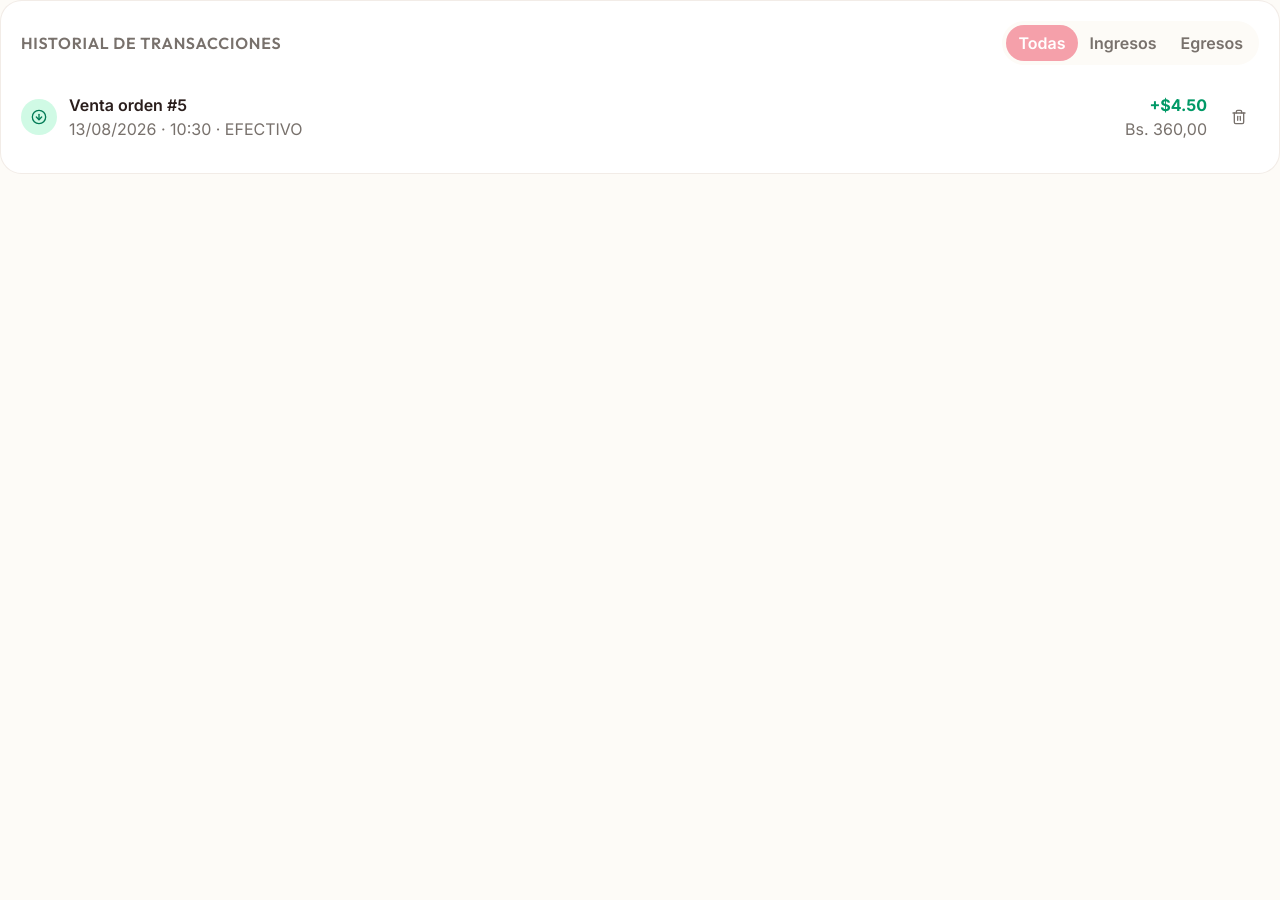
Test: TransactionsTable › advierte que la orden quedará sin registro cuando la operación proviene de una orden
Click the button named "eliminar operación venta orden" at {"x": 1239, "y": 117}, box [1219, 97, 1259, 137]
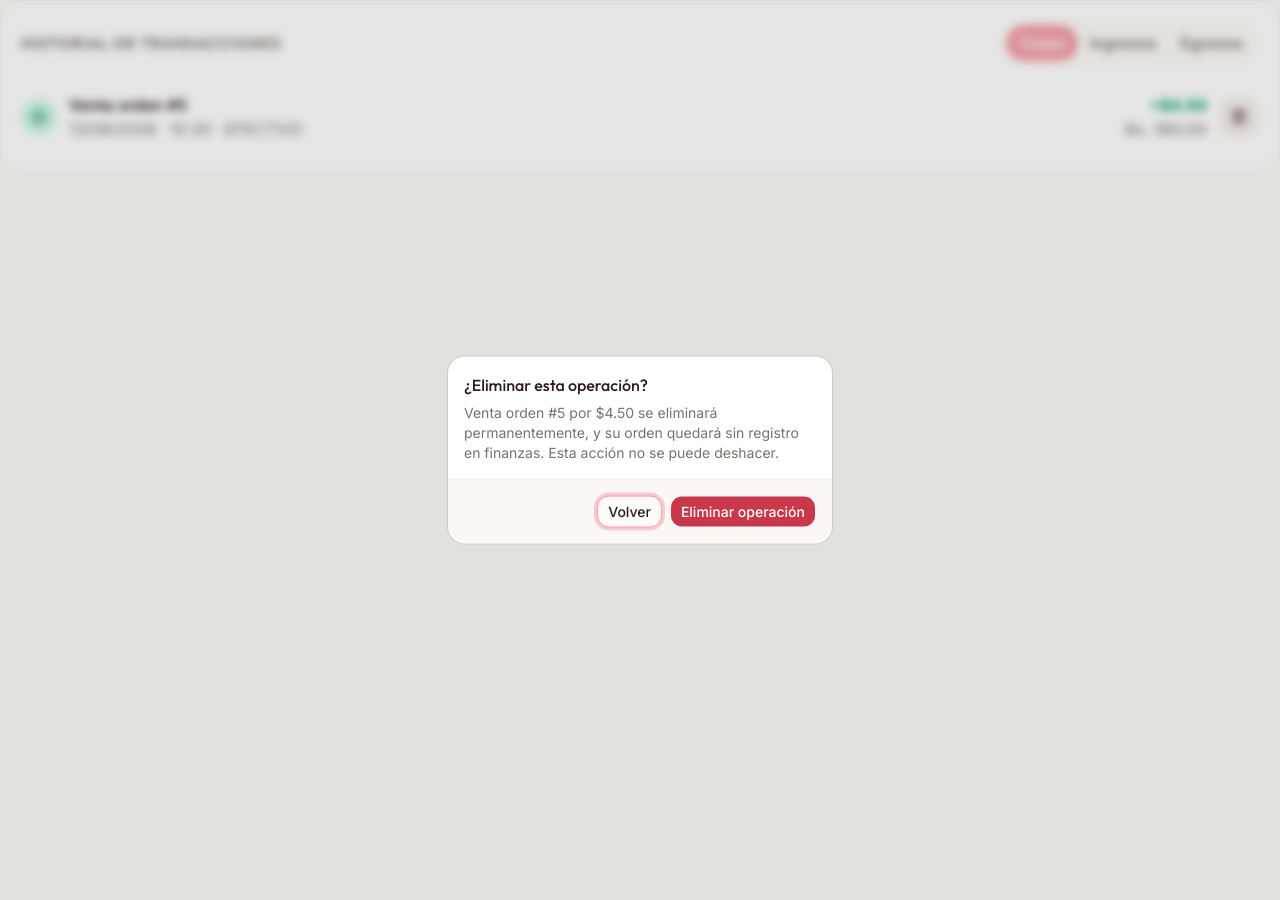
expect the text "su orden quedará sin registro en finanzas" is shown: met, box [464, 424, 799, 460]
